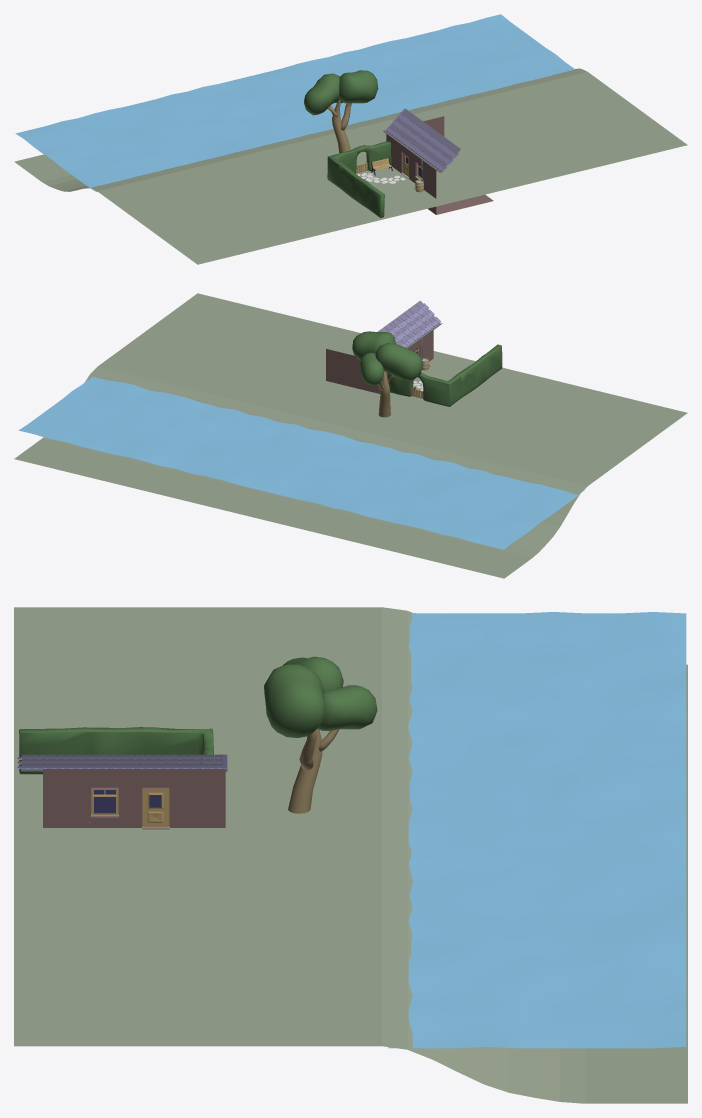
Rendered from Omgeving Leaf me Alone.fbx.
3 renders of one model, top to bottom at view 1: azimuth 30°, elevation 25°; view 2: azimuth 150°, elevation 25°; view 3: azimuth 270°, elevation 25°, orthographic. The views are drawn at different scales.
Visible parts, largest first — view 1: Gras omgeving, Water, Heg low poly, Muur, Bladeren boom.002, Bladeren boom, Boomstam; view 2: Gras omgeving, Water, Heg low poly, Muur, Bladeren boom, Bladeren boom.002, Bladeren boom.001; view 3: Gras omgeving, Water, Muur, Heg low poly, Bladeren boom.002, Bladeren boom.001, Boomstam, Deur, Bladeren boom.
Part boxes in pixels (bbox=[...]): Gras omgeving: bbox=[14, 68, 687, 264]; Water: bbox=[15, 14, 574, 191]; Heg low poly: bbox=[327, 141, 391, 217]; Muur: bbox=[386, 116, 493, 214]; Bladeren boom.002: bbox=[338, 70, 378, 103]; Bladeren boom: bbox=[304, 73, 339, 115]; Boomstam: bbox=[332, 100, 350, 153]; Gras omgeving: bbox=[14, 293, 687, 578]; Water: bbox=[18, 377, 584, 549]; Heg low poly: bbox=[387, 344, 502, 406]; Muur: bbox=[326, 330, 433, 393]; Bladeren boom: bbox=[375, 343, 422, 380]; Bladeren boom.002: bbox=[352, 331, 395, 360]; Bladeren boom.001: bbox=[360, 352, 383, 385]; Gras omgeving: bbox=[14, 607, 687, 1103]; Water: bbox=[388, 612, 686, 1048]; Muur: bbox=[43, 769, 225, 829]; Heg low poly: bbox=[19, 727, 214, 774]; Bladeren boom.002: bbox=[264, 664, 325, 737]; Bladeren boom.001: bbox=[317, 685, 377, 730]; Boomstam: bbox=[288, 729, 322, 813]; Deur: bbox=[142, 790, 169, 827]; Bladeren boom: bbox=[283, 656, 343, 691].
Size of the model in its own units: 4237 by 912 by 2749.
